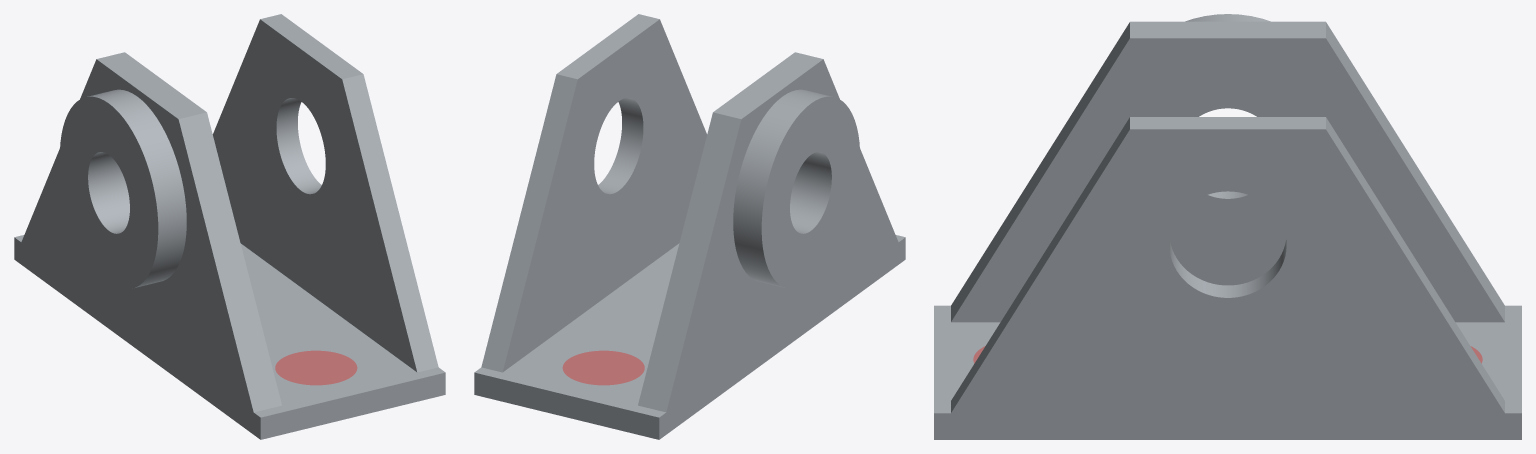
Rendered from step_05.glb.
3 renders of one model, left to right at view 1: azimuth 30°, elevation 25°; view 2: azimuth 150°, elevation 25°; view 3: azimuth 270°, elevation 25°, orthographic. The views are drawn at different scales.
Visible parts, largest first — view 1: part__Worksheet 13 clevis bracket, removed__Worksheet 13 clevis bracket; view 2: part__Worksheet 13 clevis bracket, removed__Worksheet 13 clevis bracket; view 3: part__Worksheet 13 clevis bracket.
Part boxes in pixels (x1,y1,x2,y2): part__Worksheet 13 clevis bracket: (14, 14, 445, 439); removed__Worksheet 13 clevis bracket: (275, 350, 357, 385); part__Worksheet 13 clevis bracket: (474, 14, 905, 439); removed__Worksheet 13 clevis bracket: (562, 350, 644, 385); part__Worksheet 13 clevis bracket: (934, 14, 1521, 439).
Size of the model in its own units: 30 by 35 by 60.
